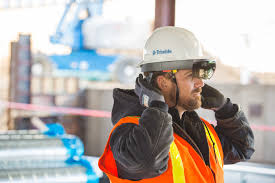hololens: (141, 59, 217, 83)
